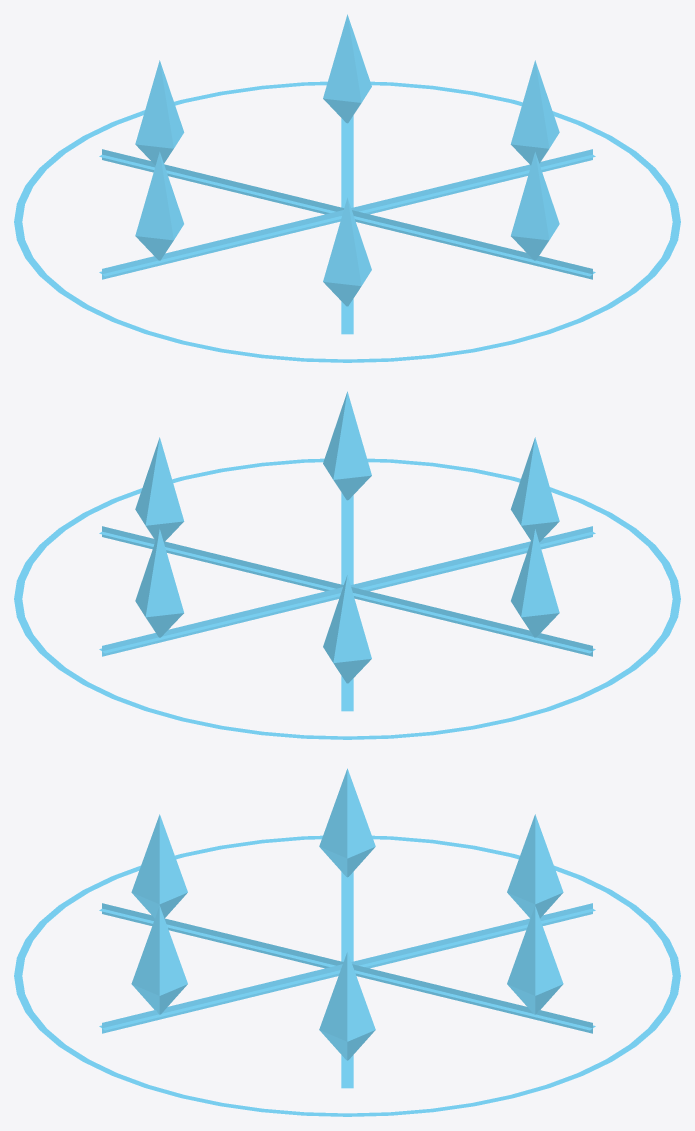
File: frost.glb
3 views of the same model, one above another, from view 1: azimuth 30°, elevation 25°; view 2: azimuth 150°, elevation 25°; view 3: azimuth 270°, elevation 25° (orthographic).
Visible parts, largest first — view 1: frost_ultimate; view 2: frost_ultimate; view 3: frost_ultimate.
Part boxes in pixels (x1,y1,x2,y2): frost_ultimate: [14, 14, 680, 362]; frost_ultimate: [14, 391, 680, 739]; frost_ultimate: [14, 768, 680, 1116].
Bounding box in the file's own units: 2 × 0.385 × 2.
